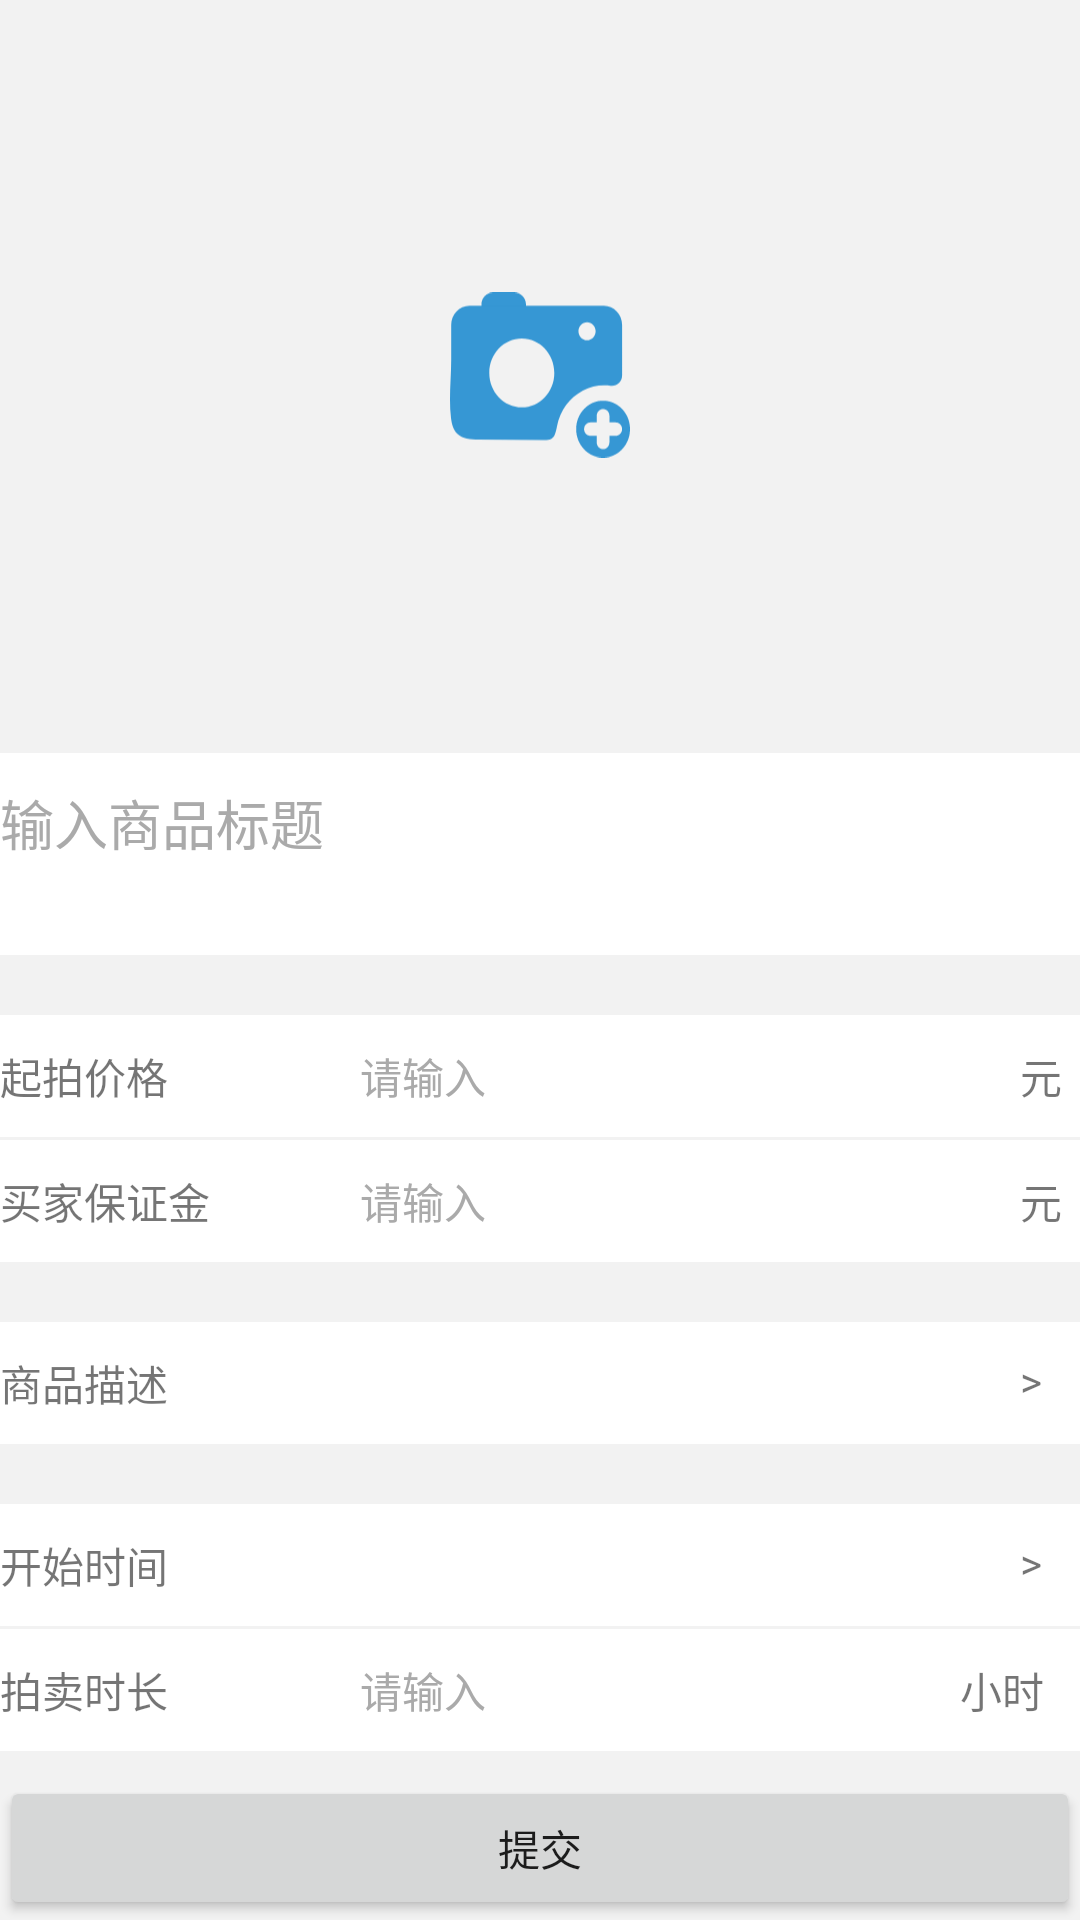

Locate icon controls on the screen. Image size 1080×1920, boxes as (x1, y1, x2, y2).
upload photos: (450, 292, 630, 458)
